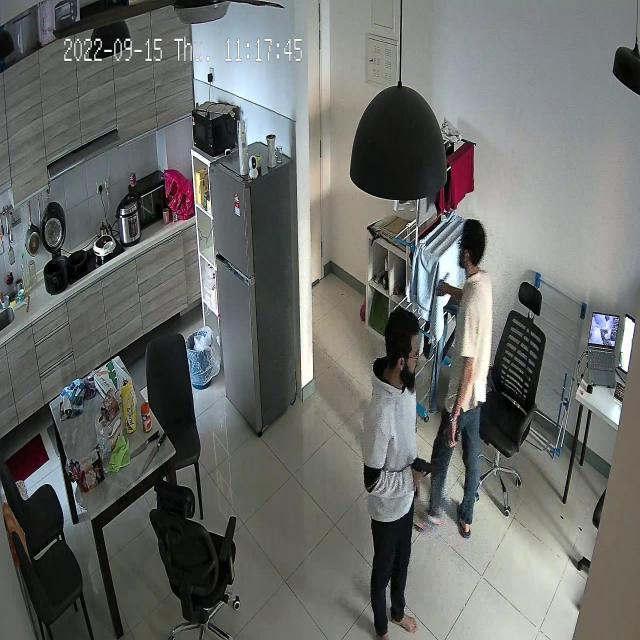Gun: (401, 445, 442, 493)
